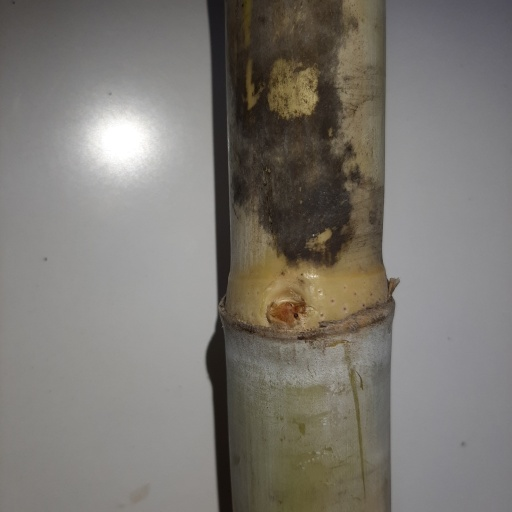Damage_Bud: (266, 296, 307, 327)
